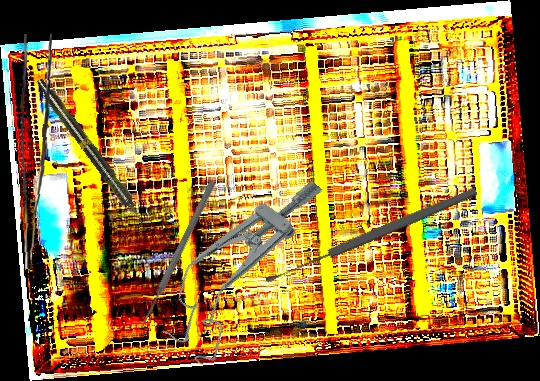Handpiece: (32, 75, 151, 230)
Pusher: (136, 179, 218, 331)
Speculum: (145, 152, 336, 370)
Surgical Spoon: (263, 184, 479, 287)
Tissue Forceps: (16, 33, 61, 270)
